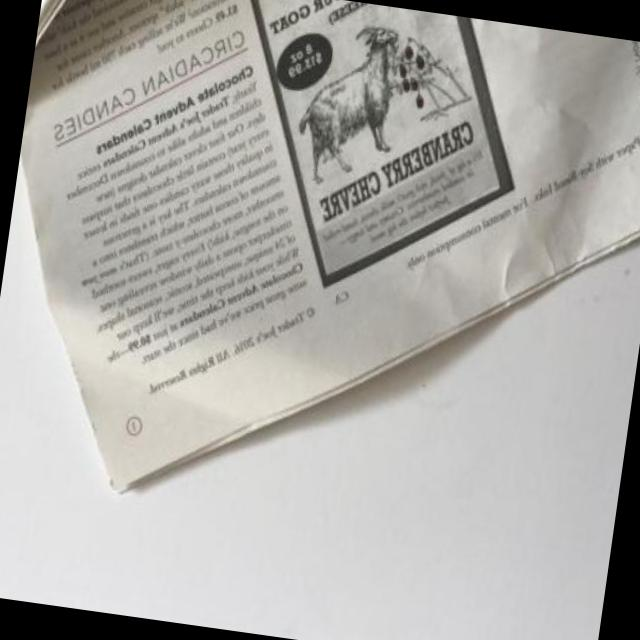cardboard paper: (20, 0, 640, 492)
